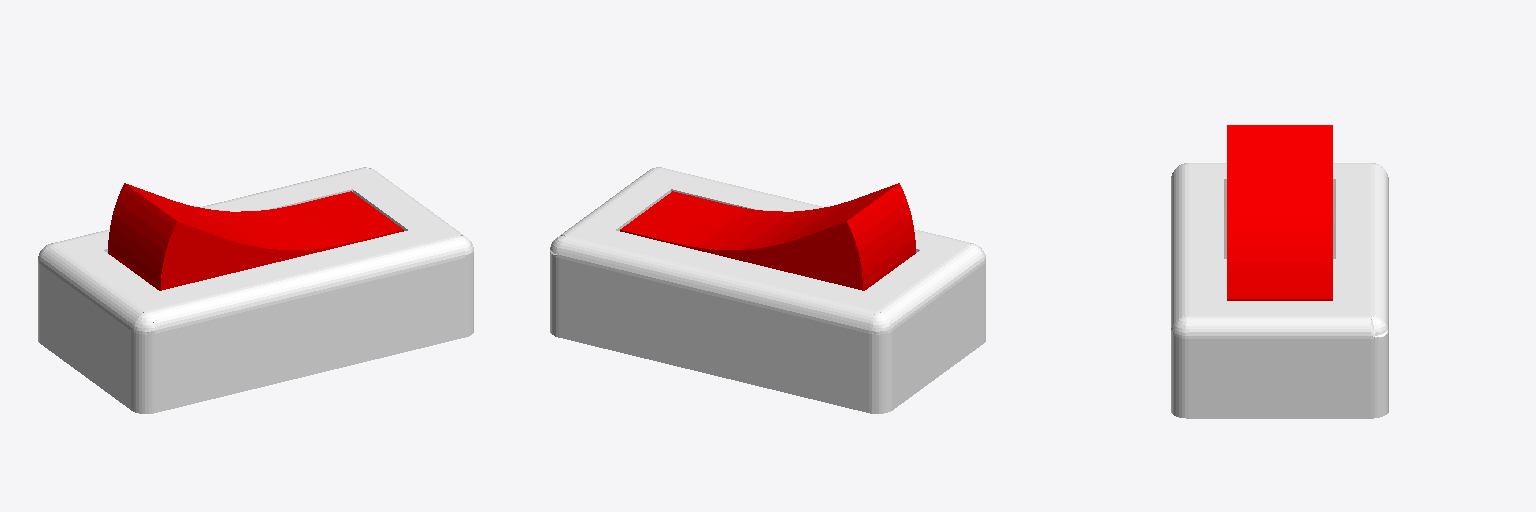
Rendered from onButton.obj.
3 views of the same model, side by side, from view 1: azimuth 30°, elevation 25°; view 2: azimuth 150°, elevation 25°; view 3: azimuth 270°, elevation 25° (orthographic).
Parts seen in each view (by area): view 1: 003, _DC_Brep; view 2: 003, _DC_Brep; view 3: 003, _DC_Brep.
Part boxes in pixels (x1,y1,x2,y2): 003: (38, 167, 473, 413); _DC_Brep: (108, 183, 403, 290); 003: (550, 167, 985, 413); _DC_Brep: (620, 183, 915, 290); 003: (1171, 163, 1388, 418); _DC_Brep: (1227, 125, 1332, 300).
Bounding box in the file's own units: 11.2 × 5 × 6.2.